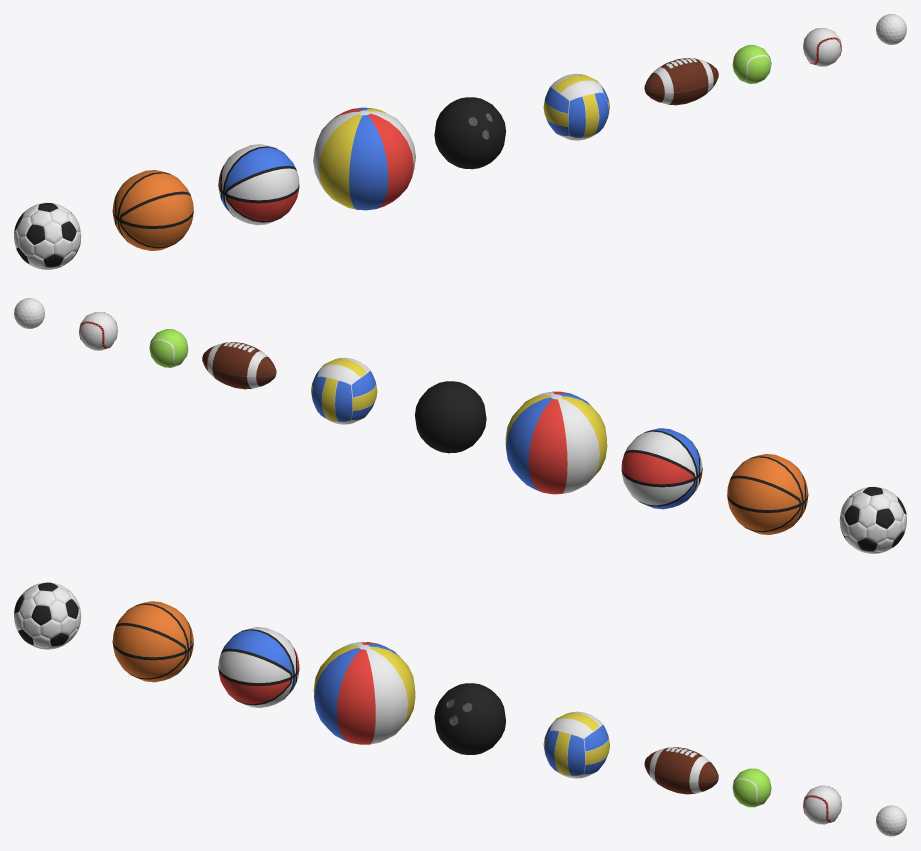
The model's file is balls.fbx.
3 renders of one model, top to bottom at view 1: azimuth 30°, elevation 25°; view 2: azimuth 150°, elevation 25°; view 3: azimuth 330°, elevation 25°, orthographic.
Visible parts, largest first — view 1: Beach ball, Basketball 2, Basketball 1, Bowling, Soccer ball, Volleyball, American ball, Baseball ball, Tennis ball, Golf ball; view 2: Beach ball, Basketball 2, Basketball 1, Bowling, Soccer ball, Volleyball, American ball, Baseball ball, Tennis ball, Golf ball; view 3: Beach ball, Basketball 2, Basketball 1, Bowling, Soccer ball, Volleyball, American ball, Baseball ball, Tennis ball, Golf ball.
Part boxes in pixels (bbox=[...]): Beach ball: bbox=[313, 107, 415, 210]; Basketball 2: bbox=[218, 144, 299, 225]; Basketball 1: bbox=[112, 170, 193, 250]; Bowling: bbox=[434, 97, 505, 169]; Soccer ball: bbox=[14, 202, 81, 269]; Volleyball: bbox=[543, 73, 609, 140]; American ball: bbox=[644, 58, 718, 105]; Baseball ball: bbox=[803, 28, 841, 66]; Tennis ball: bbox=[732, 45, 771, 83]; Golf ball: bbox=[876, 14, 906, 44]; Beach ball: bbox=[505, 391, 607, 494]; Basketball 2: bbox=[621, 428, 702, 509]; Basketball 1: bbox=[727, 454, 808, 534]; Bowling: bbox=[415, 381, 486, 453]; Soccer ball: bbox=[839, 486, 906, 553]; Volleyball: bbox=[311, 357, 377, 424]; American ball: bbox=[202, 342, 276, 389]; Baseball ball: bbox=[79, 312, 117, 350]; Tennis ball: bbox=[149, 329, 188, 367]; Golf ball: bbox=[14, 298, 44, 328]; Beach ball: bbox=[313, 642, 415, 744]; Basketball 2: bbox=[218, 627, 299, 708]; Basketball 1: bbox=[112, 601, 193, 682]; Bowling: bbox=[434, 683, 505, 754]; Soccer ball: bbox=[14, 582, 81, 649]; Volleyball: bbox=[543, 711, 609, 778]; American ball: bbox=[644, 747, 718, 794]; Baseball ball: bbox=[803, 785, 841, 824]; Tennis ball: bbox=[732, 768, 771, 807]; Golf ball: bbox=[876, 805, 906, 836].
Bounding box in the file's own units: 25.17 × 2.54 × 2.54.
